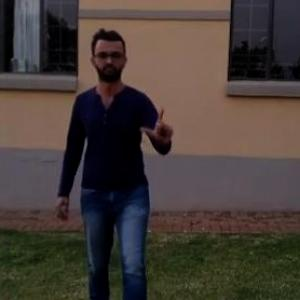land_hand: (139, 103, 178, 146)
